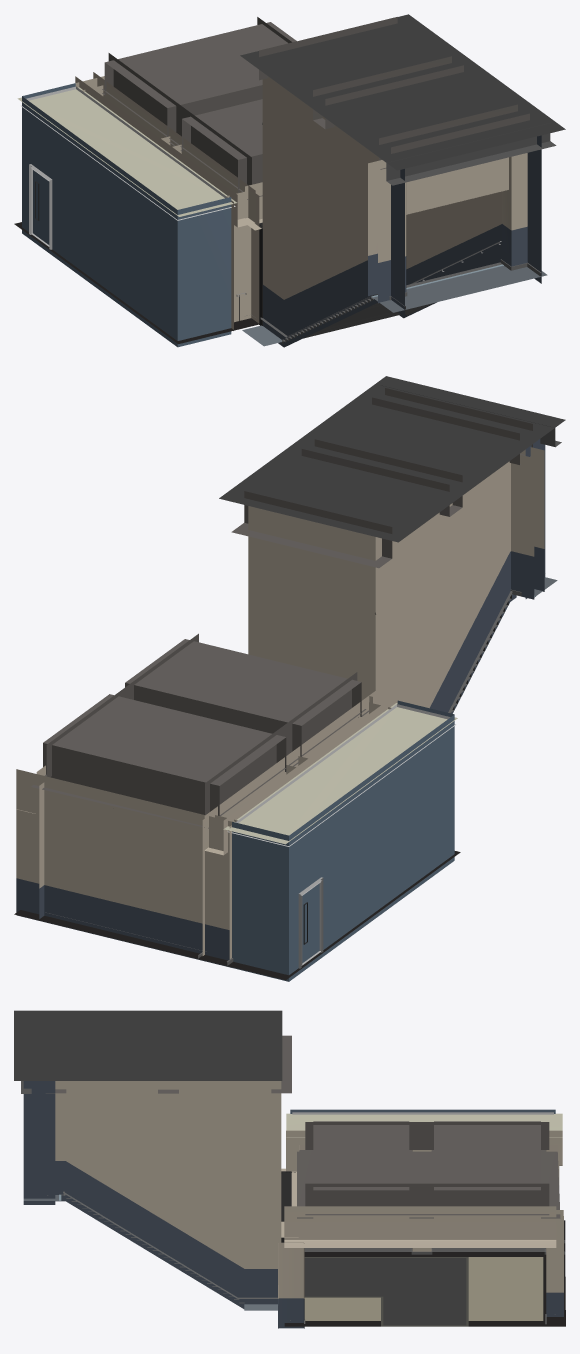
File: SM_H_Building_Tide_MedicalRoom_16_ATLAS.fbx
3 renders of one model, top to bottom at view 1: azimuth 30°, elevation 25°; view 2: azimuth 150°, elevation 25°; view 3: azimuth 270°, elevation 25°, orthographic. The views are drawn at different scales.
Visible parts, largest first — view 1: SM_H_Building_Tide_MedicalRoom_16_ATLAS; view 2: SM_H_Building_Tide_MedicalRoom_16_ATLAS; view 3: SM_H_Building_Tide_MedicalRoom_16_ATLAS.
Part boxes in pixels (x1=…): SM_H_Building_Tide_MedicalRoom_16_ATLAS: x1=14, y1=14, x2=565, y2=347; SM_H_Building_Tide_MedicalRoom_16_ATLAS: x1=14, y1=376, x2=565, y2=981; SM_H_Building_Tide_MedicalRoom_16_ATLAS: x1=14, y1=1010, x2=565, y2=1328.
Size of the model in its own units: 1198 by 2448 by 1202.
